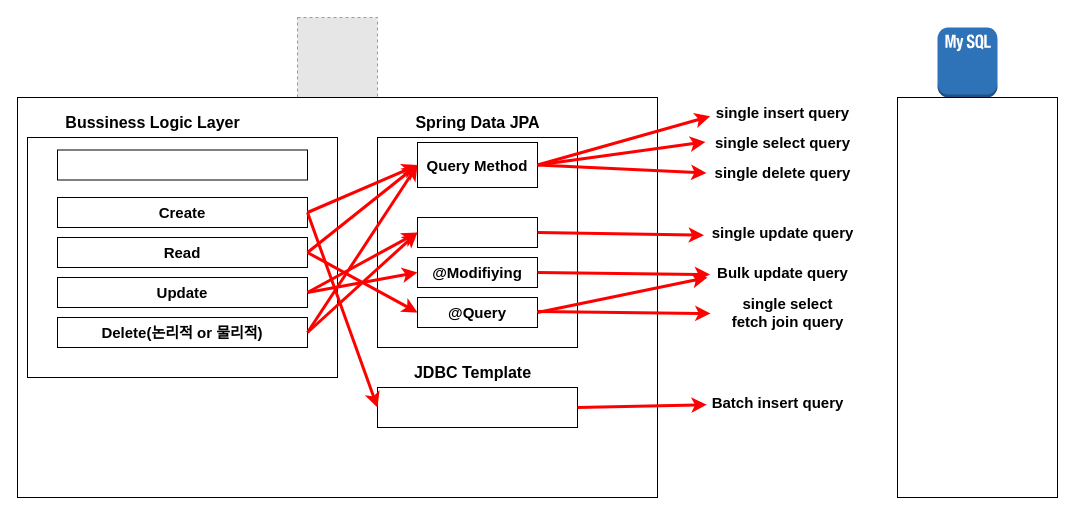
Image size: 1075x515. Some labels were removed from this diagram. Grey dashed boxes stand in for pictures. Each missing label, with the centre of its shape:
"batchUpdate()" goes at point 477,407.
"Dirty Checking" goes at point 477,232.
"Entity 사이 관계: Lazy Loading" goes at point 182,164.
